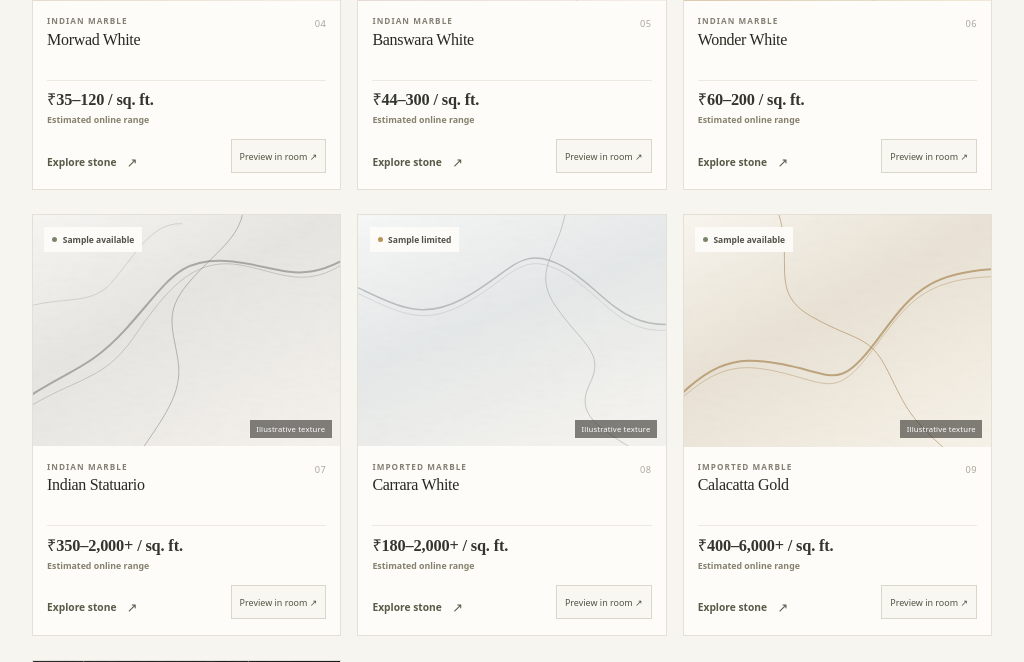
Test: stone discovery dashboard › opens and closes the stone details view with image and price disclosures
(page scrolled)
Check: the heading "Calacatta Gold" is shown, box x1=698 y1=476 x2=792 y2=494
Step 1. Click the button with aria-label "View details for Calacatta Gold" → {"x": 837, "y": 331}, box x1=684 y1=215 x2=991 y2=446
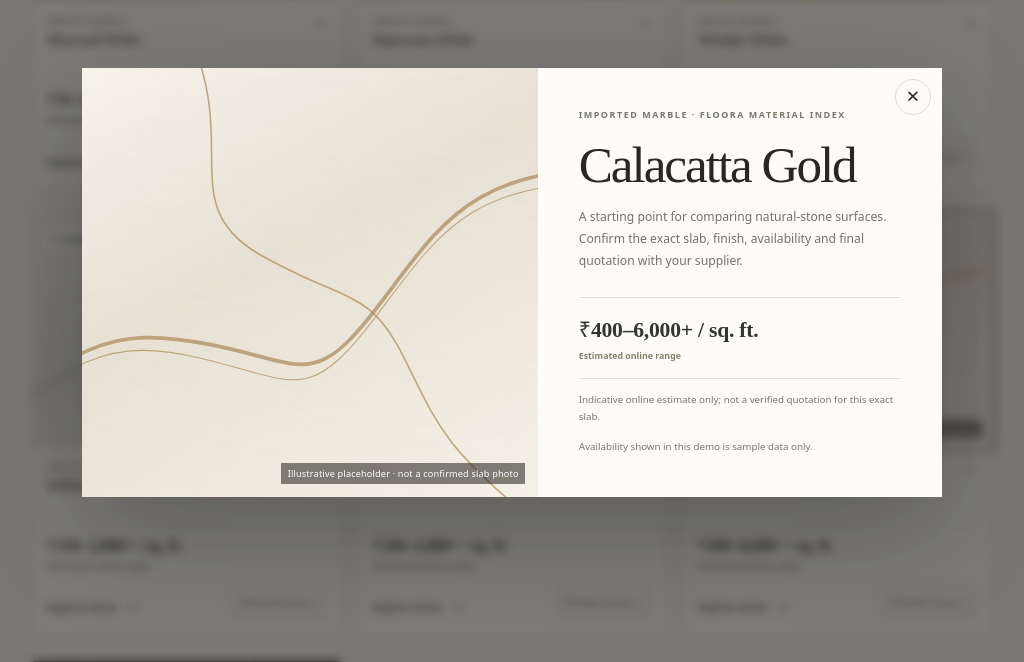
Check: the dialog is shown, box x1=82 y1=68 x2=942 y2=496
Check: the text "Indicative online estimate only" is shown, box x1=579 y1=393 x2=893 y2=423
Check: the text "Illustrative placeholder · not a confirmed slab photo" is shown, box x1=281 y1=463 x2=525 y2=484
Step 2. Click the button named "Close stone details" → {"x": 913, "y": 97}, box x1=895 y1=79 x2=931 y2=115
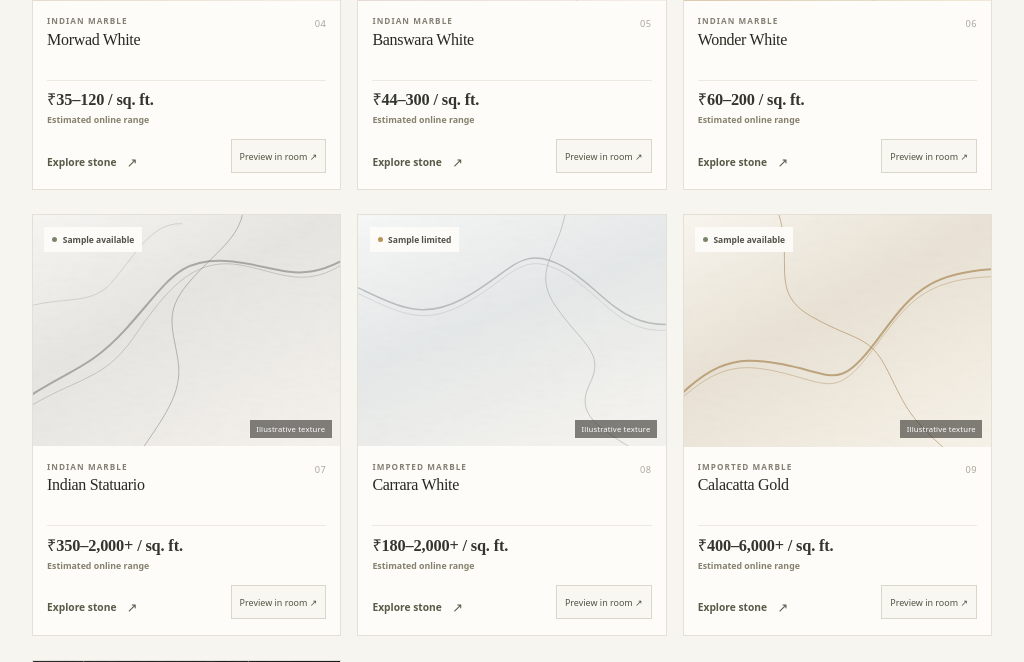
Check: the dialog is gone
